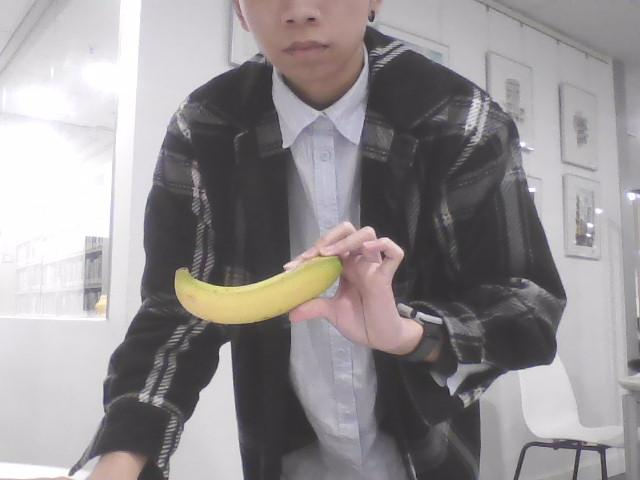banana: (174, 256, 342, 324)
